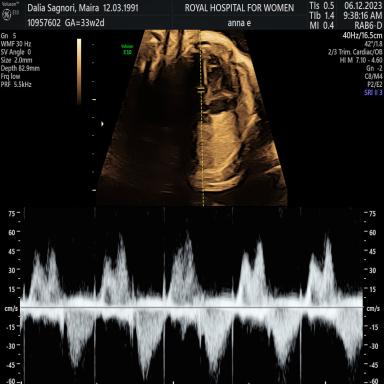Ultrasound-Waves: (26, 209, 360, 384)
